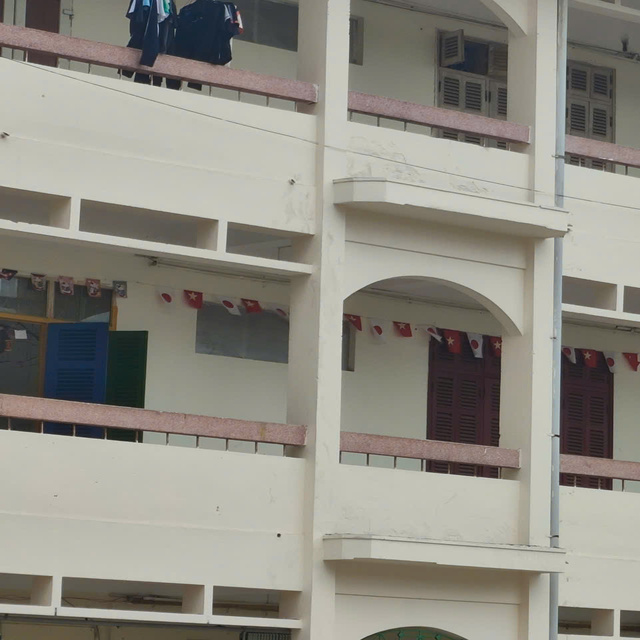laco: (386, 313, 416, 343), (599, 345, 621, 380), (364, 313, 387, 346), (216, 291, 239, 320), (183, 285, 205, 315), (467, 328, 484, 361), (443, 323, 459, 357), (241, 296, 263, 317), (581, 346, 597, 368), (160, 284, 174, 307)
